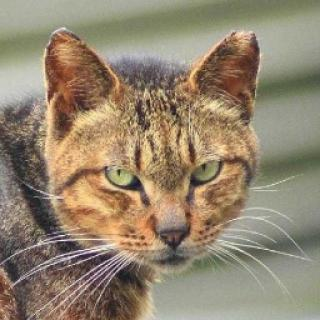cat: (44, 25, 261, 277)
nose: (142, 194, 194, 249)
